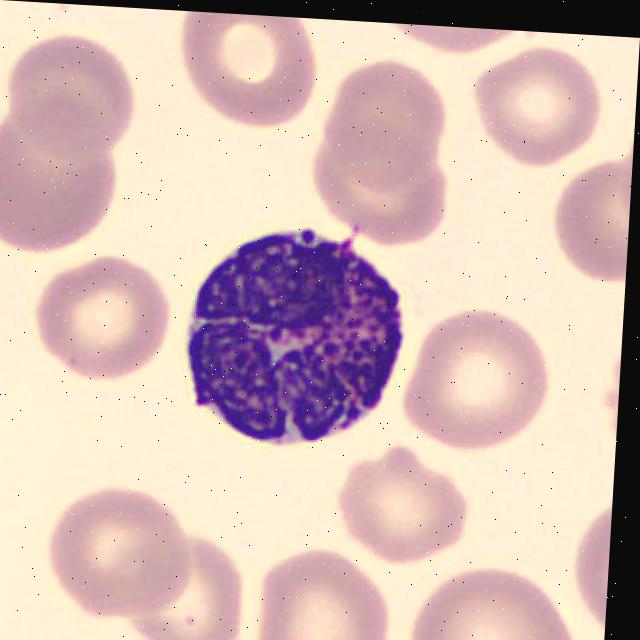basophil: (182, 221, 415, 460)
rbc: (399, 308, 555, 450), (28, 243, 174, 389), (37, 493, 200, 623), (167, 10, 326, 137), (0, 36, 147, 167), (467, 52, 612, 175), (333, 56, 455, 192), (0, 122, 130, 248), (339, 455, 474, 568), (408, 559, 582, 640), (251, 548, 404, 640), (306, 148, 444, 247), (555, 158, 633, 290), (123, 557, 246, 640), (379, 23, 525, 60), (575, 505, 612, 625), (44, 625, 139, 640)
